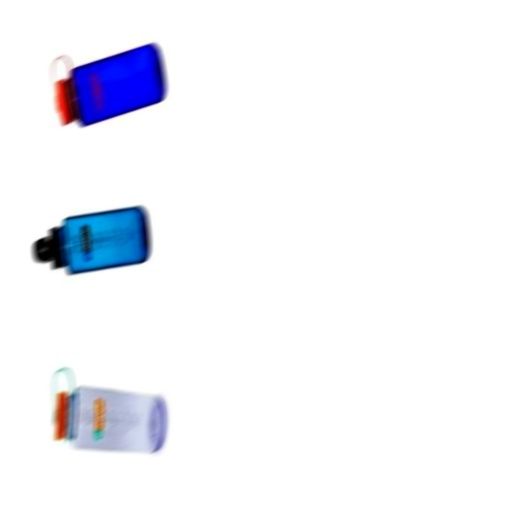bottle: (48, 42, 170, 129), (52, 366, 167, 455), (58, 201, 152, 279)
